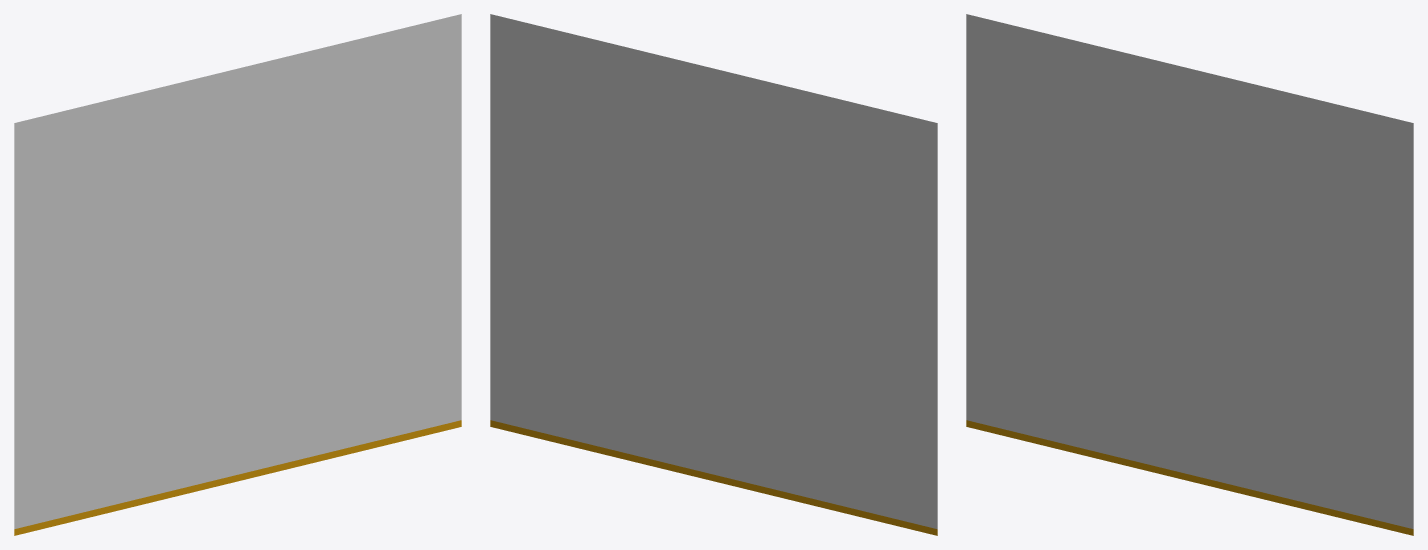
3 views of the same model, side by side, from view 1: azimuth 30°, elevation 25°; view 2: azimuth 150°, elevation 25°; view 3: azimuth 330°, elevation 25° (orthographic).
Parts seen in each view (by area): view 1: 2107037248434D47FDCF75BD68882E1F; view 2: 2107037248434D47FDCF75BD68882E1F; view 3: 2107037248434D47FDCF75BD68882E1F.
Part boxes in pixels (x1,y1,x2,y2): 2107037248434D47FDCF75BD68882E1F: (14, 14, 461, 535); 2107037248434D47FDCF75BD68882E1F: (490, 14, 937, 535); 2107037248434D47FDCF75BD68882E1F: (966, 14, 1413, 535).
Bounding box in the file's own units: 0.00648 × 72 × 63.49.
